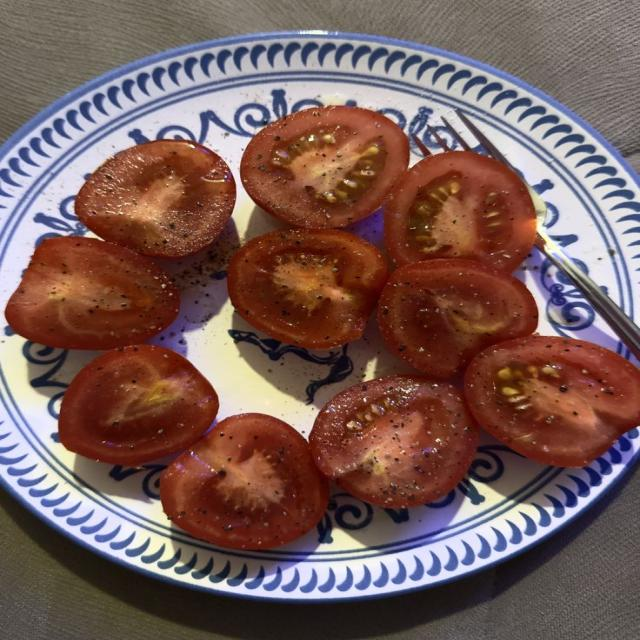sliced_tomato: (160, 413, 328, 549), (465, 336, 639, 466), (310, 376, 478, 508), (241, 106, 409, 228), (6, 237, 179, 349), (59, 345, 219, 465), (228, 229, 387, 349), (378, 259, 538, 377), (75, 140, 235, 257), (385, 152, 536, 271)
